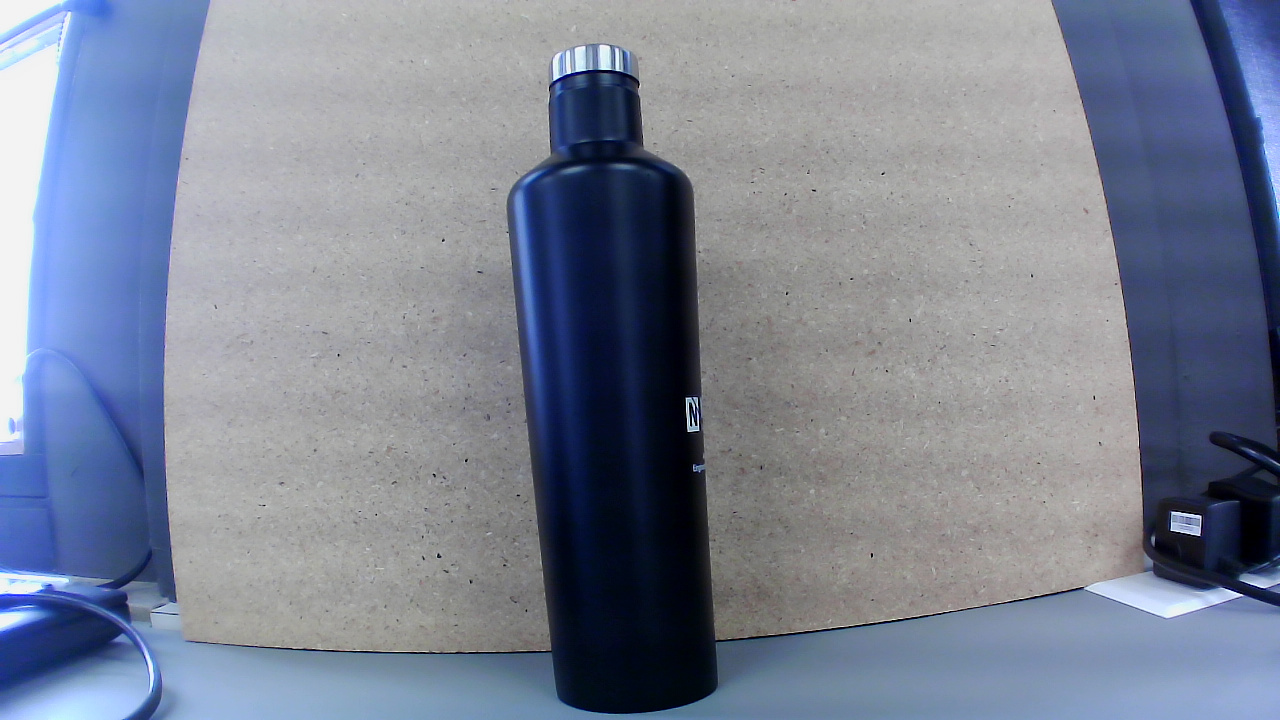neobottle: (501, 41, 738, 719)
